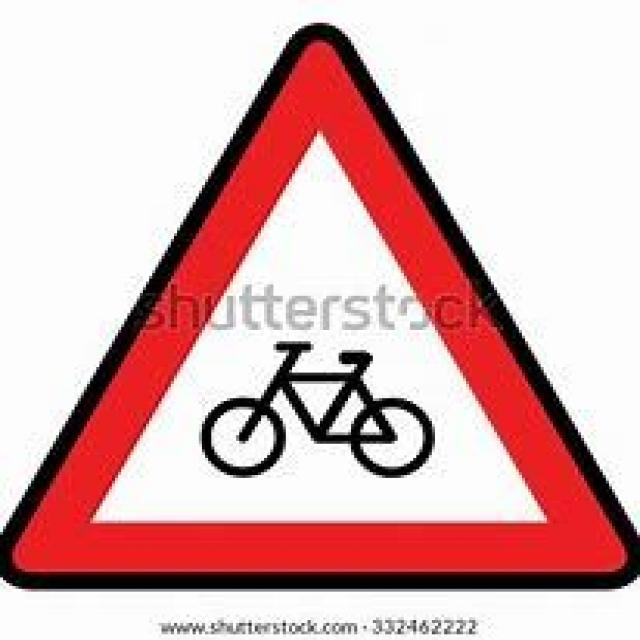CYCLE_CROSSING: (0, 20, 634, 586)
